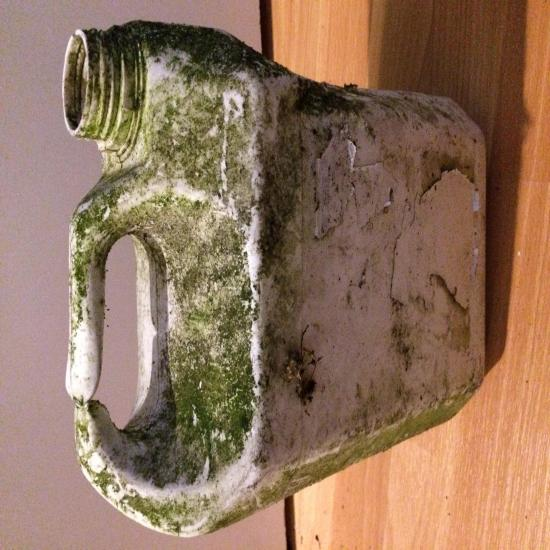Clear plastic bottle: (153, 164, 249, 281)
Drink can: (244, 254, 277, 301)
Other plastic: (378, 27, 503, 143), (232, 152, 336, 278)
Other plastic bottle: (175, 426, 192, 446)
Plastic bottle cap: (236, 256, 249, 282)
